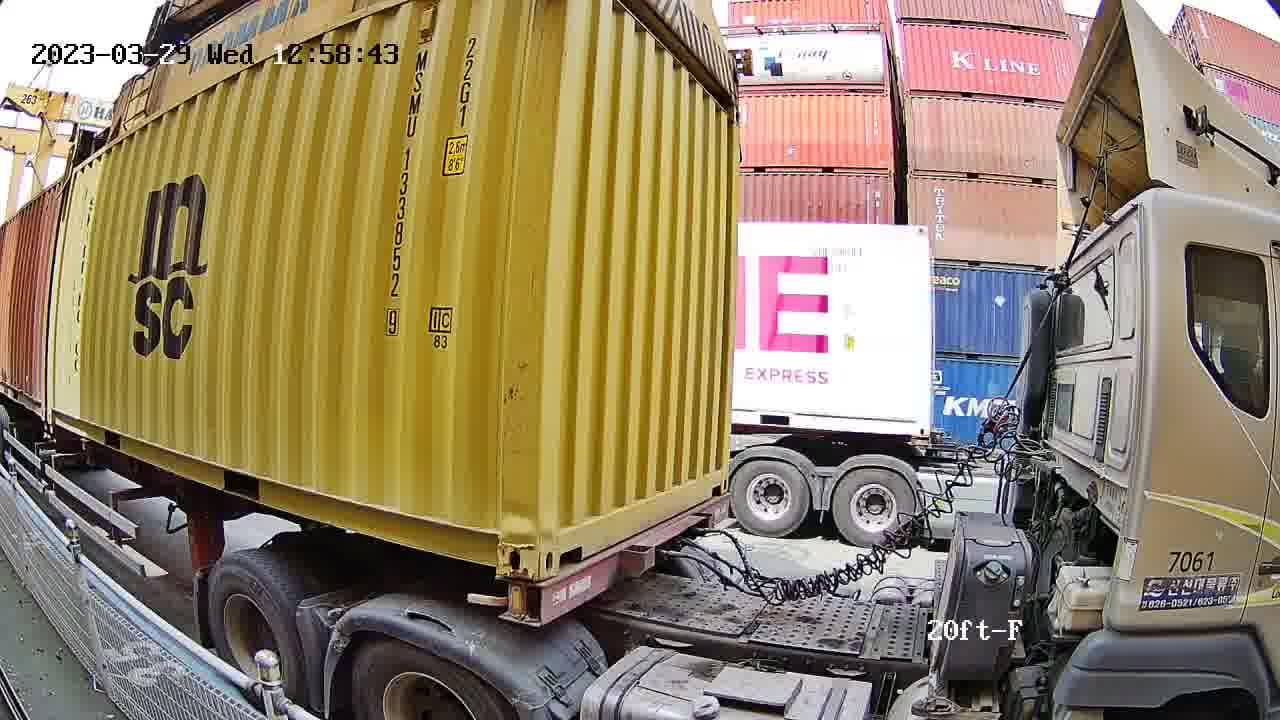Chassis: (498, 494, 729, 625)
Cone: (497, 579, 534, 622)
Hole_L: (537, 502, 583, 581)
Hole_R: (474, 504, 537, 580), (708, 455, 729, 500)
Tire: (210, 557, 305, 716), (349, 640, 500, 715)
